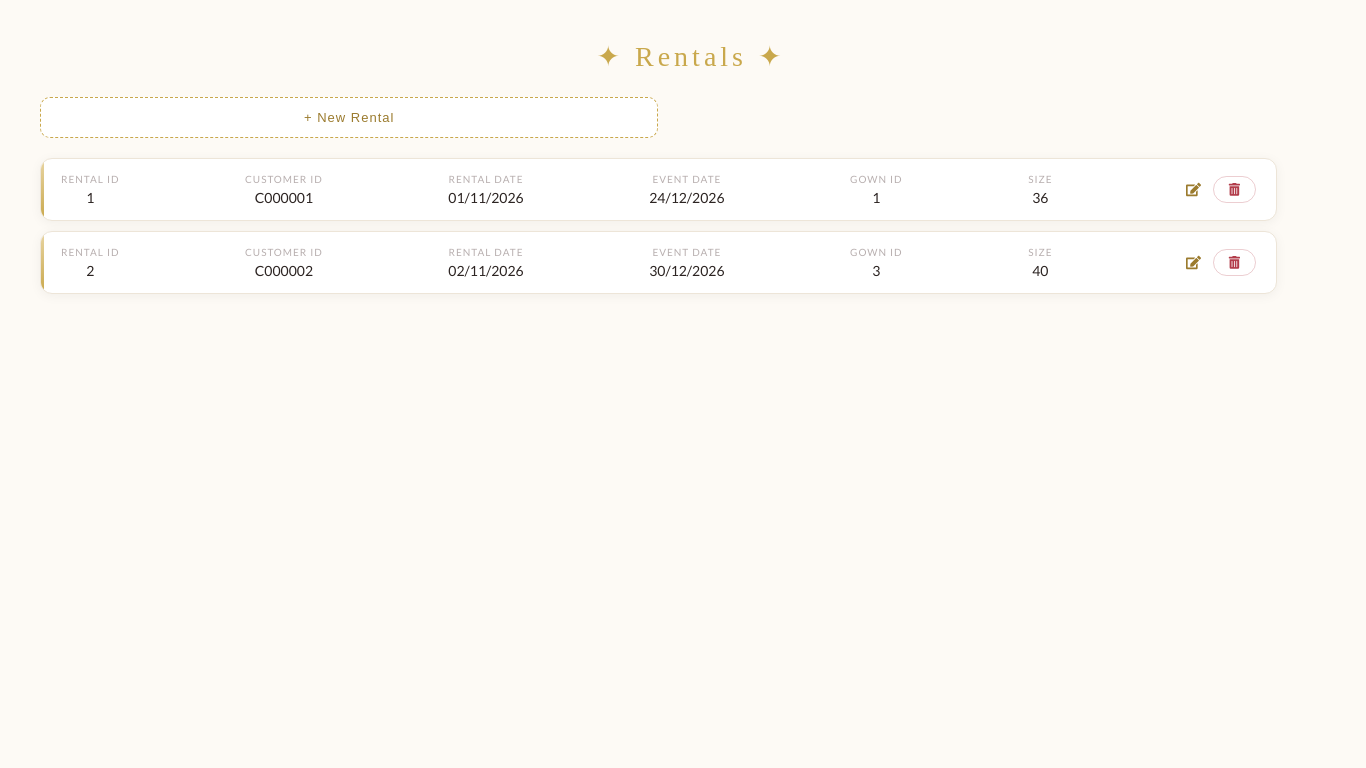
Scenario: changing and deleting a rental › the customer, date and gown of a rental are changed in one form
The width and height of the screenshot is (1366, 768).
Expected: the text "C000001" is shown, [255,189,313,206]
Click the button titled "Update" in the row of "36" at (1194, 190), box [1178,176,1209,203]
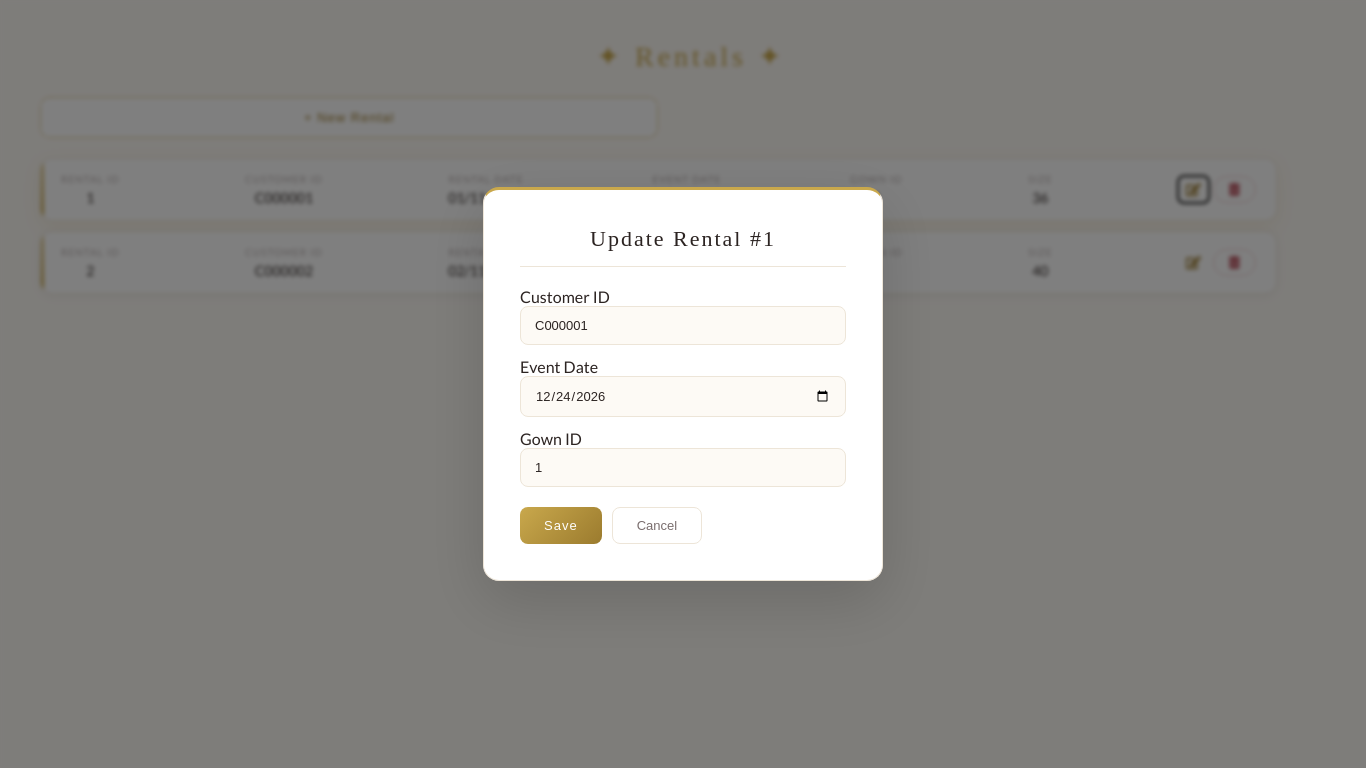
Now the heading "Update Rental #1" is shown, box [520,226,846,267]
Now the field labelled "Customer ID" holds "C000001", box [520,306,846,345]
Now the date field labelled "Event Date" holds "2026-12-24"
Type "2027-01-05" into the date field labelled "Event Date" at (683, 396), box [520,376,846,417]
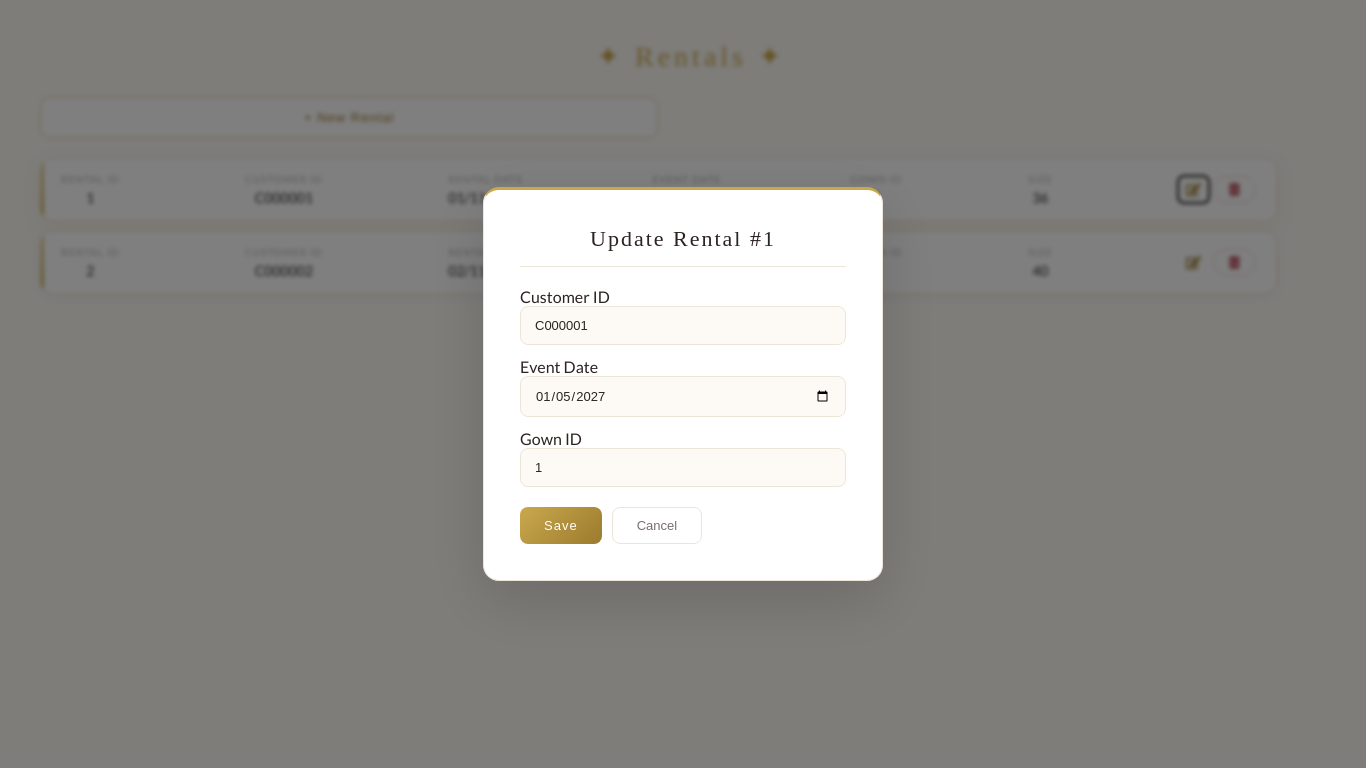
Click the button "Save" at (561, 526), box [520,507,602,544]
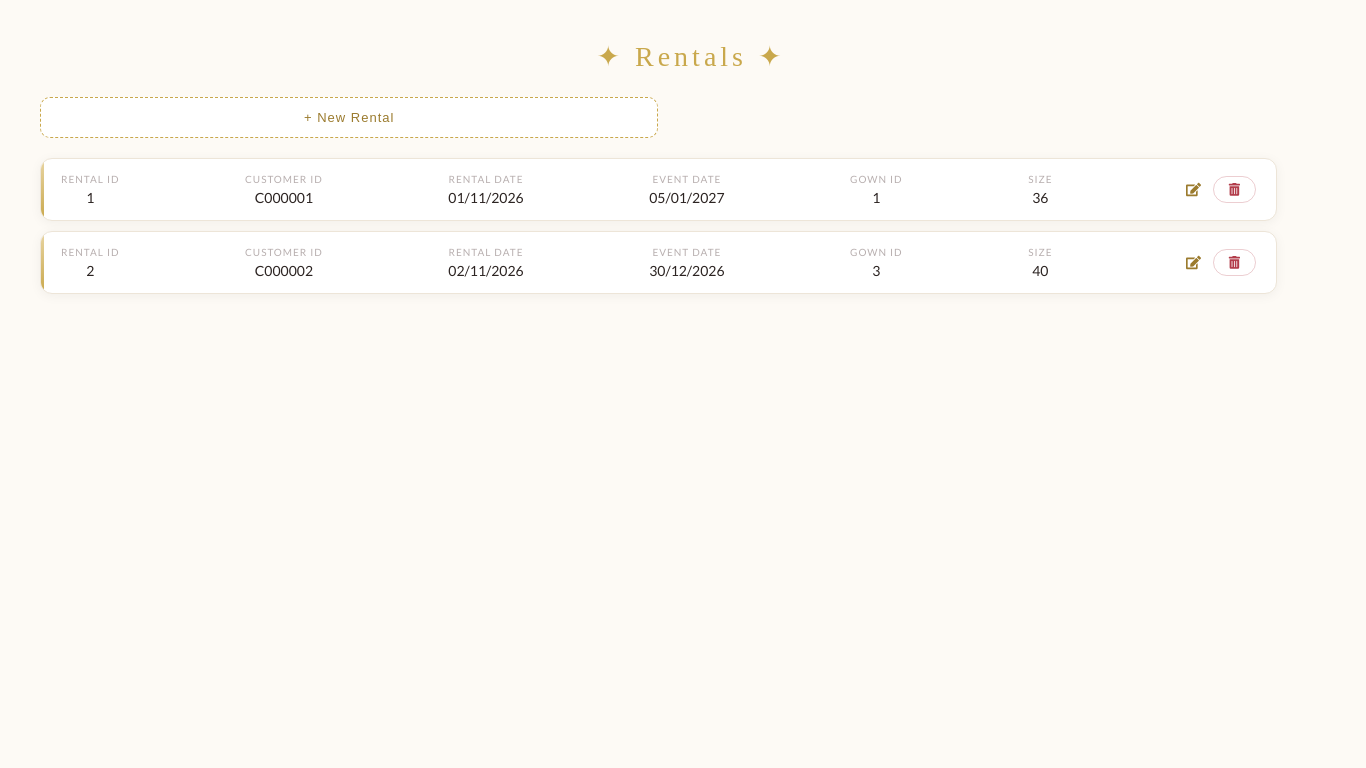
Now the text "05/01/2027" is shown, box [649,189,725,206]
